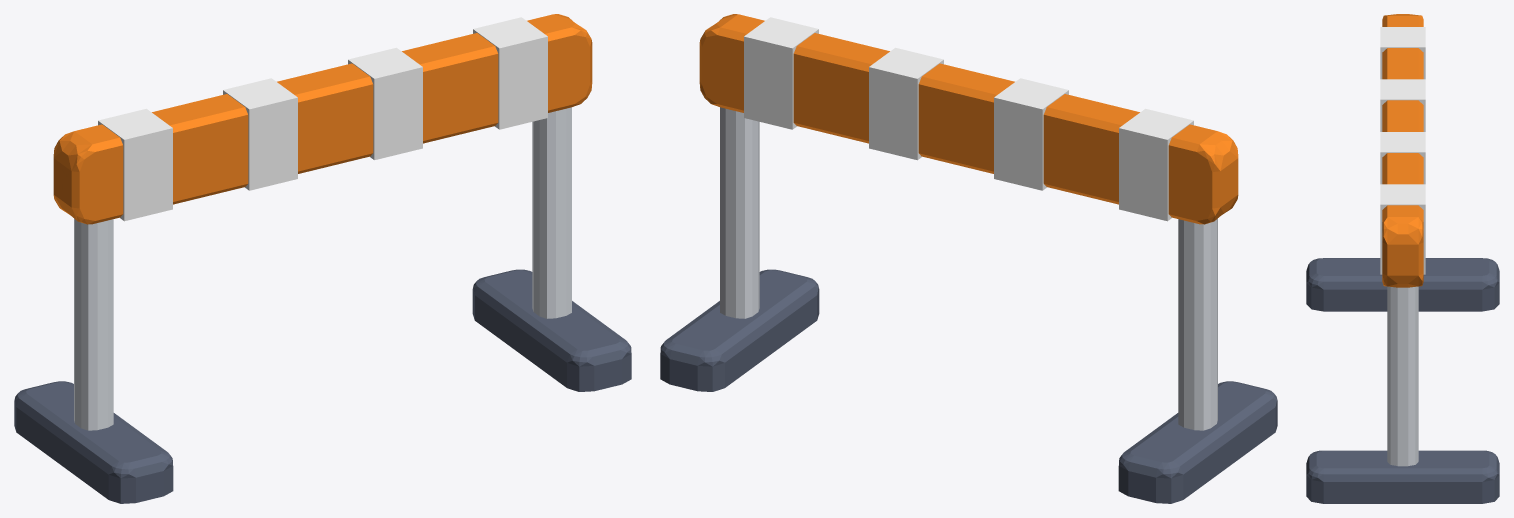
The model's file is prop_hurdle.glb.
3 views of the same model, side by side, from view 1: azimuth 30°, elevation 25°; view 2: azimuth 150°, elevation 25°; view 3: azimuth 270°, elevation 25° (orthographic). The views are drawn at different scales.
Visible parts, largest first — view 1: rail, bands, main, legs; view 2: rail, bands, main, legs; view 3: main, rail, legs, bands.
Boxes of the visible parts, x1=… form: rail: x1=53, y1=14, x2=592, y2=224; bands: x1=98, y1=17, x2=547, y2=221; main: x1=14, y1=269, x2=631, y2=503; legs: x1=74, y1=107, x2=571, y2=430; rail: x1=699, y1=14, x2=1238, y2=224; bands: x1=744, y1=17, x2=1193, y2=221; main: x1=660, y1=269, x2=1277, y2=503; legs: x1=720, y1=107, x2=1217, y2=430; main: x1=1306, y1=258, x2=1499, y2=503; rail: x1=1382, y1=14, x2=1423, y2=287; legs: x1=1387, y1=286, x2=1418, y2=466; bands: x1=1380, y1=27, x2=1425, y2=274.
Bounding box in the file's own units: 1.68 × 1 × 0.6278.
